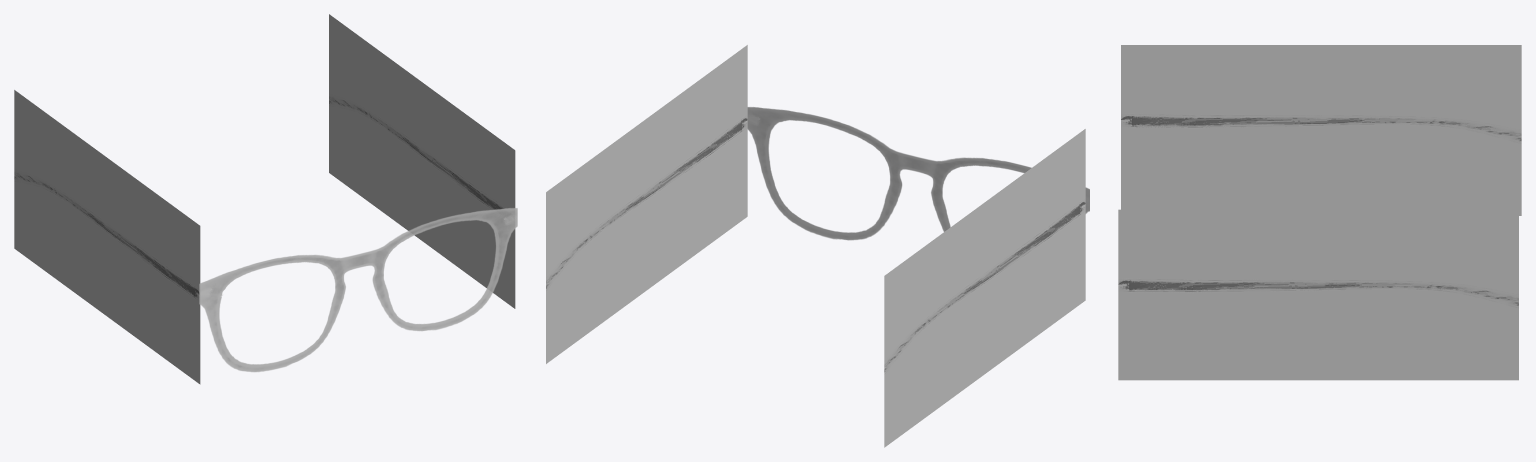
Rendered from broadway-flex-69_crystal.glb.
The picture shows the model from 3 angles, left to right: view 1: azimuth 30°, elevation 25°; view 2: azimuth 150°, elevation 25°; view 3: azimuth 270°, elevation 25°; orthographic projection. The views are drawn at different scales.
Visible parts, largest first — view 1: Right, Left, Front; view 2: Left, Right, Front; view 3: Left, Right.
Boxes of the visible parts, x1=… form: Right: x1=14, y1=90, x2=200, y2=384; Left: x1=329, y1=14, x2=515, y2=308; Front: x1=199, y1=208, x2=517, y2=372; Left: x1=546, y1=45, x2=747, y2=363; Right: x1=884, y1=129, x2=1085, y2=447; Front: x1=747, y1=107, x2=1089, y2=240; Left: x1=1118, y1=209, x2=1518, y2=380; Right: x1=1121, y1=45, x2=1521, y2=215.
Bounding box in the file's own units: 146 × 109 × 149.
Materials: 4 (4 with a texture image).
